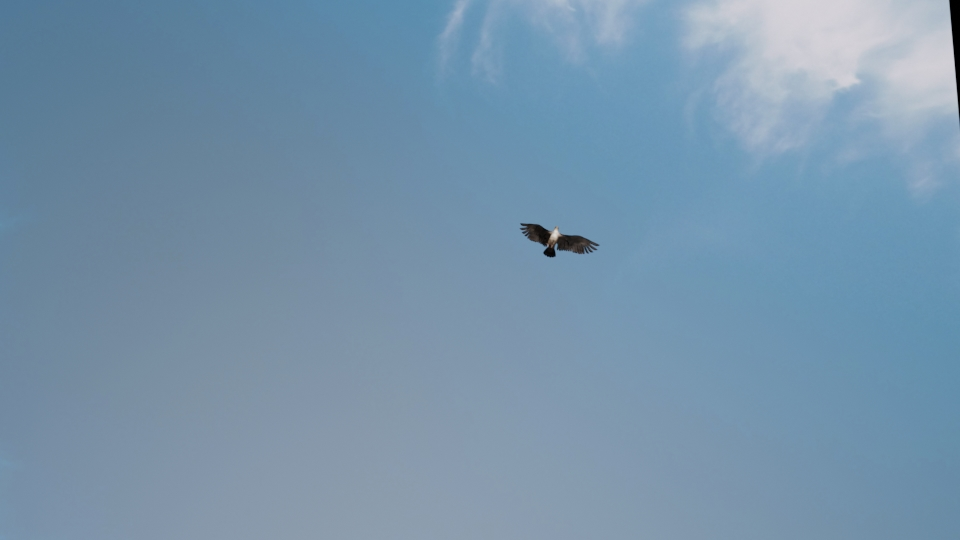bird: (517, 220, 595, 259)
